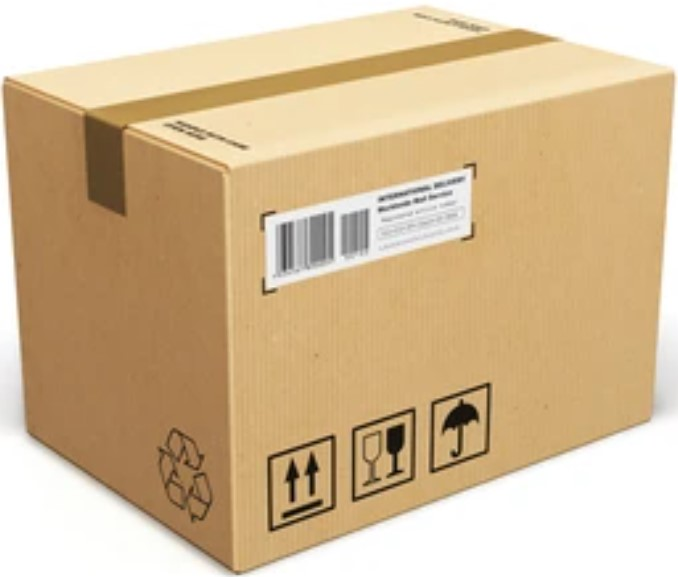stock: (9, 5, 678, 573)
